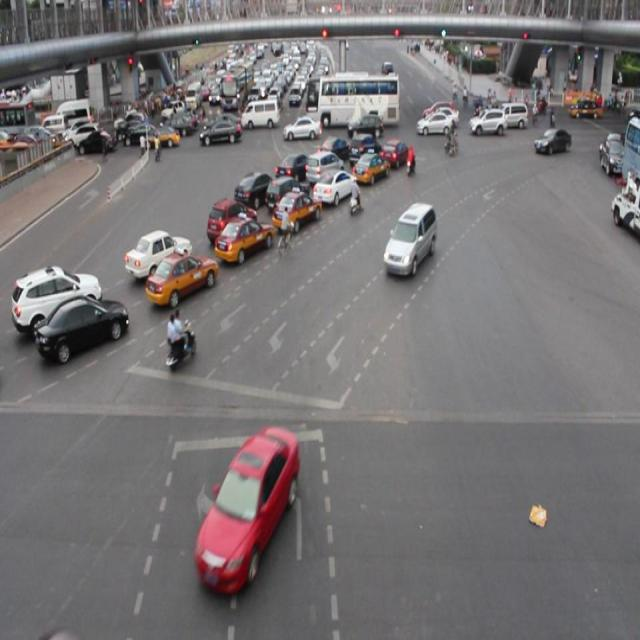car: (197, 430, 298, 581), (36, 296, 130, 357), (11, 264, 103, 326), (382, 204, 437, 272), (146, 252, 218, 302), (125, 229, 192, 277), (214, 216, 273, 260), (206, 197, 257, 240), (272, 191, 320, 232), (265, 174, 309, 212), (313, 170, 357, 208), (305, 149, 344, 184), (352, 150, 391, 185), (234, 171, 274, 205), (274, 152, 313, 186), (347, 134, 383, 166), (318, 134, 352, 166), (533, 127, 570, 155), (380, 137, 410, 169)
